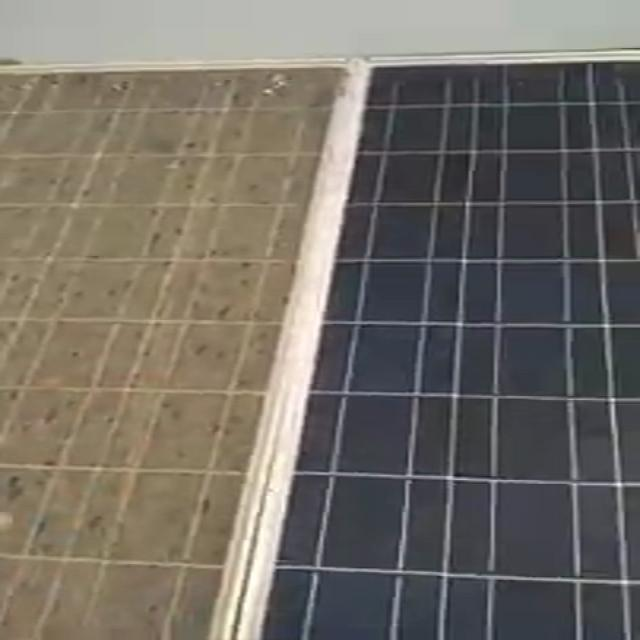Anomaly Solar Panel: (0, 70, 350, 640)
Normal Solar Panel: (240, 49, 640, 639)
Surface Contaminant: (2, 73, 344, 636)
